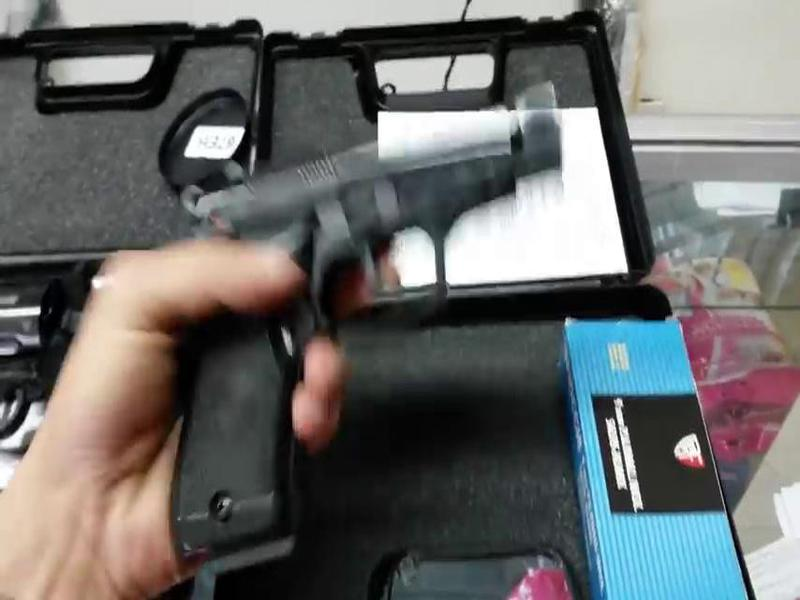Pistola: (154, 84, 582, 557)
